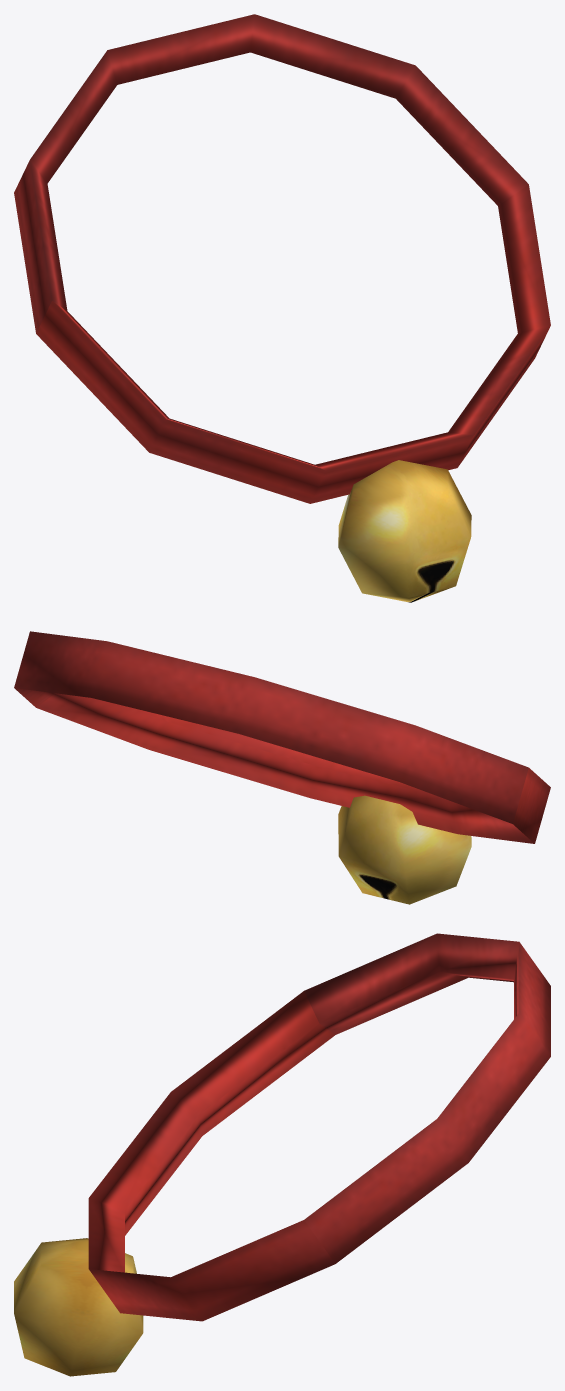
File: cu_cat_ring_grp.fbx
The picture shows the model from 3 angles, top to bottom: view 1: azimuth 30°, elevation 25°; view 2: azimuth 150°, elevation 25°; view 3: azimuth 270°, elevation 25°; orthographic projection.
Parts seen in each view (by area): view 1: cu_cat_ring_a_mesh; view 2: cu_cat_ring_a_mesh; view 3: cu_cat_ring_a_mesh.
Boxes of the visible parts, left/top/right/bottom form: cu_cat_ring_a_mesh: left=14, top=14, right=550, bottom=602; cu_cat_ring_a_mesh: left=14, top=631, right=550, bottom=904; cu_cat_ring_a_mesh: left=14, top=933, right=550, bottom=1376.
Bounding box in the file's own units: 9.35 × 7.54 × 9.26.
